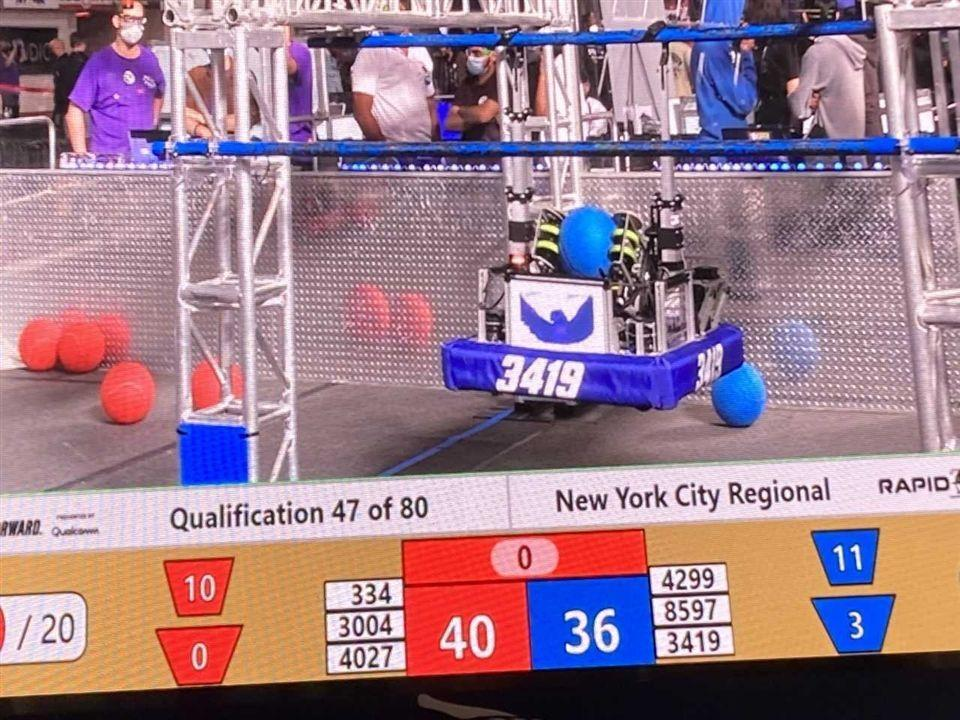robot: (425, 9, 754, 416)
